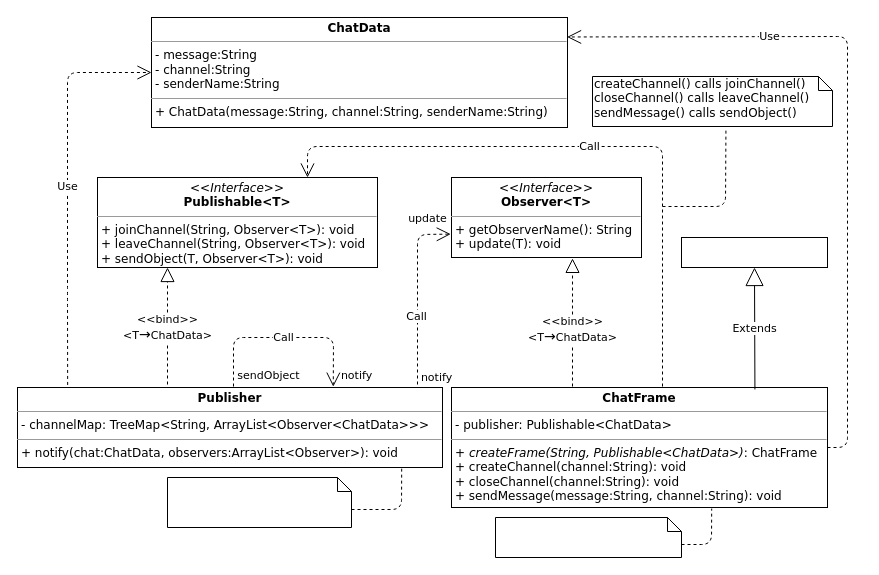
The diagram is 879 pixels wide and 575 high, and some of its shapes have lost their labels. The centre of each missing label's shape, as x and y in pixels:
"javax.swing.JFrame" belongs at pixel 754 252.
"notify() sends the chat message to each observer in the observers" belongs at pixel 259 502.
"update() displays the chat message in the text area" belongs at pixel 588 537.
